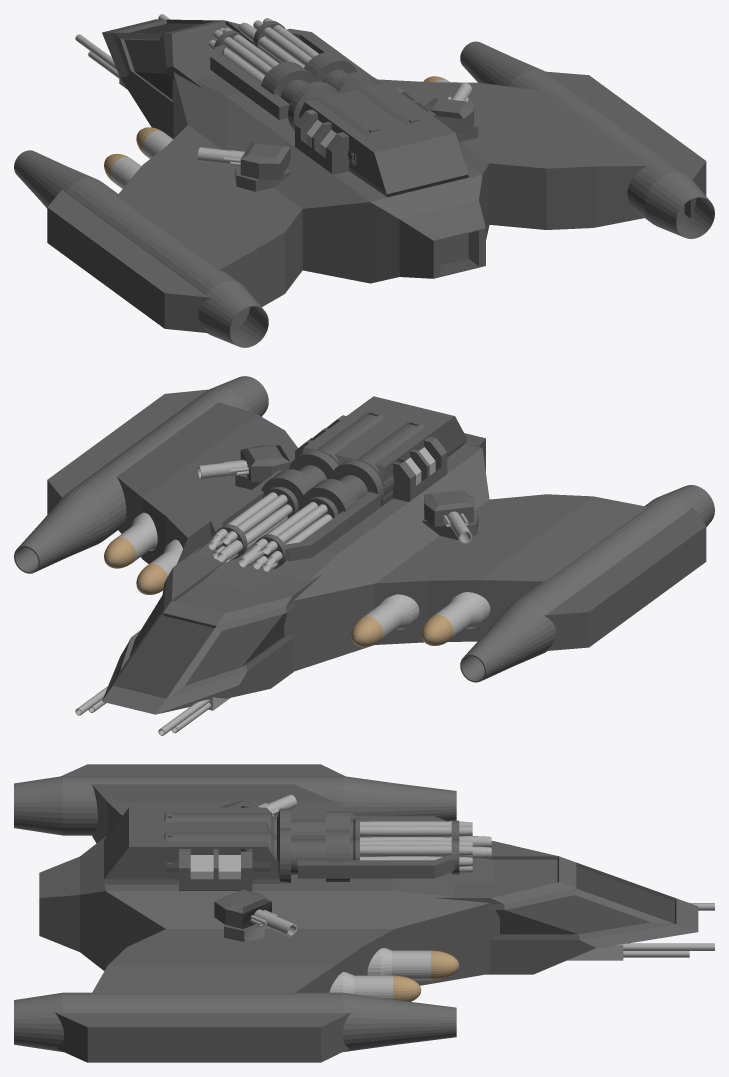
The model's file is SpaceShipHeavilyArmed.fbx.
3 renders of one model, top to bottom at view 1: azimuth 30°, elevation 25°; view 2: azimuth 150°, elevation 25°; view 3: azimuth 270°, elevation 25°, orthographic.
Parts seen in each view (by area): view 1: Cube.001, Cylinder, Cylinder.001, Cube.003, Cube.002, Cube, Cylinder.014, Sphere.004, Sphere.003, Cylinder.006; view 2: Cube.001, Cylinder, Cube, Cylinder.001, Cube.003, Cube.002, Cylinder.014, Sphere.004, Sphere.003, Sphere.002, Sphere.001, Cylinder.006; view 3: Cube.001, Cylinder, Cylinder.001, Cube, Cube.003, Cube.002, Cylinder.014, Sphere.001, Cylinder.006, Sphere.002.
Part boxes in pixels (box(x1,y1,x2,y2)): Cube.001: box(117, 59, 647, 306); Cylinder: box(14, 41, 714, 347); Cylinder.001: box(208, 18, 447, 174); Cube.003: box(47, 71, 706, 333); Cube.002: box(294, 82, 468, 197); Cube: box(102, 19, 253, 138); Cylinder.014: box(198, 83, 478, 191); Sphere.004: box(104, 153, 141, 188); Sphere.003: box(136, 127, 173, 158); Cylinder.006: box(75, 14, 170, 89); Cube.001: box(117, 402, 647, 671); Cylinder: box(14, 376, 714, 682); Cube: box(102, 547, 323, 714); Cylinder.001: box(208, 411, 447, 571); Cube.003: box(47, 389, 706, 650); Cube.002: box(302, 396, 467, 506); Cylinder.014: box(198, 445, 478, 543); Sphere.004: box(421, 592, 490, 645); Sphere.003: box(351, 594, 419, 647); Sphere.002: box(104, 512, 157, 568); Sphere.001: box(136, 539, 182, 594); Cylinder.006: box(75, 686, 229, 735); Cube.001: box(39, 784, 499, 992); Cylinder: box(14, 776, 456, 1052); Cylinder.001: box(164, 806, 491, 890); Cube: box(435, 840, 698, 974); Cube.003: box(55, 764, 350, 1062); Cube.002: box(104, 807, 287, 884); Cylinder.014: box(214, 794, 296, 941); Sphere.001: box(367, 948, 459, 980); Cylinder.006: box(567, 903, 714, 960); Sphere.002: box(329, 972, 421, 1001).
Size of the model in its own units: 1350 by 1521 by 298.
